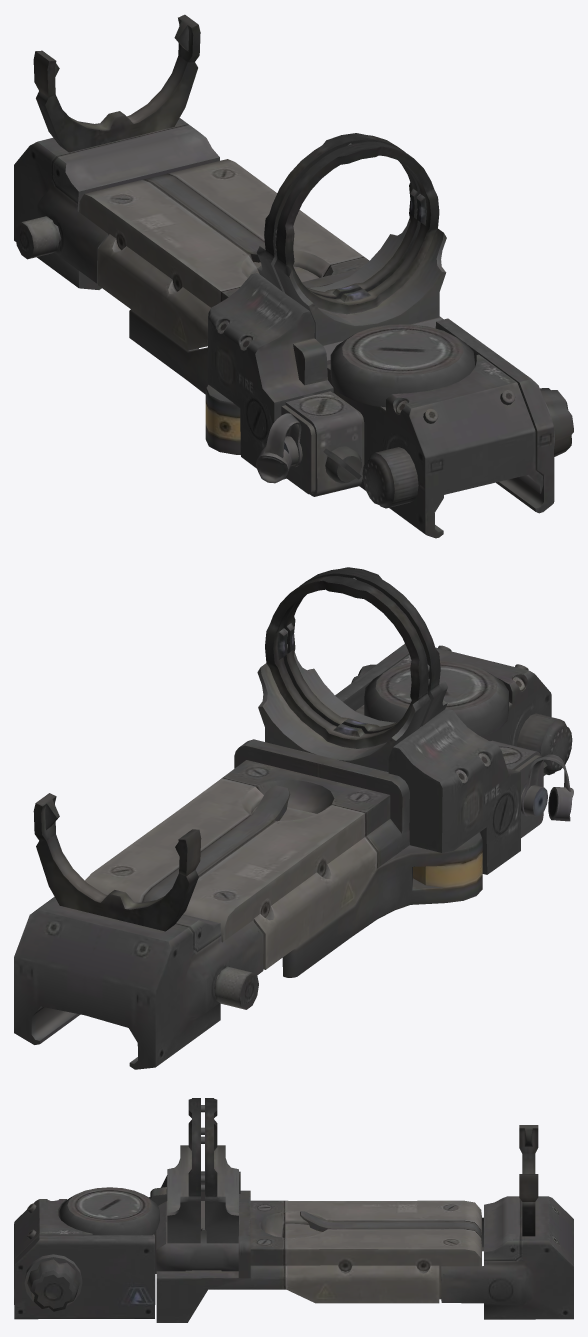
Rendered from apexopt_holo.glb.
The picture shows the model from 3 angles, top to bottom: view 1: azimuth 30°, elevation 25°; view 2: azimuth 150°, elevation 25°; view 3: azimuth 270°, elevation 25°; orthographic projection. The views are drawn at different scales.
Visible parts, largest first — view 1: opt__tex_apexopt_holo_0; view 2: opt__tex_apexopt_holo_0; view 3: opt__tex_apexopt_holo_0.
Boxes of the visible parts, x1,y1,x2,y2 form: opt__tex_apexopt_holo_0: (14,14,573,538); opt__tex_apexopt_holo_0: (14,567,573,1069); opt__tex_apexopt_holo_0: (14,1098,573,1322).
Size of the model in its own units: 0.0643 by 0.0677 by 0.1746.
Materials: 1 (1 with a texture image).
